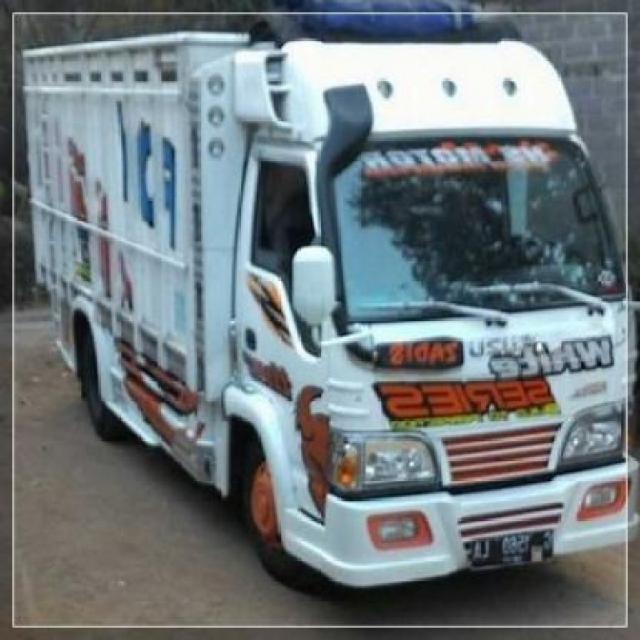truck: (19, 29, 640, 587)
